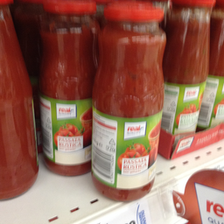tomato_sauce: (89, 4, 168, 203), (34, 1, 93, 176), (165, 2, 217, 131)
